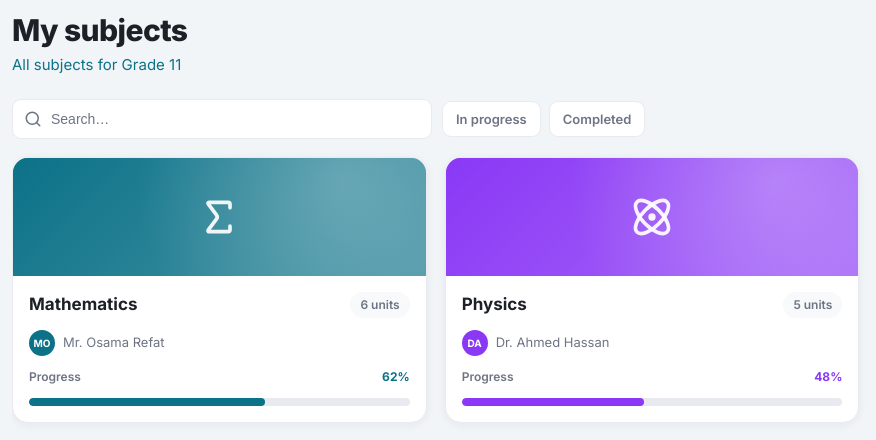
Test: StudentSubjectsPage › renders subjects page with search and filters, and filters client-side
Expected: the heading "Mathematics" is shown, [29,292,137,317]
Expected: the heading "Physics" is shown, [462,292,527,317]
# Test search filter
Type "Math" into the field with placeholder "Search…" at (222, 118), box [12,98,432,138]
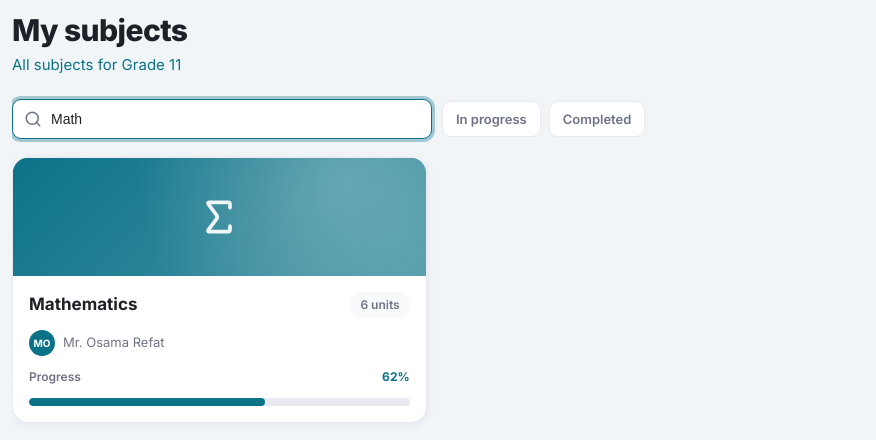
Expected: the heading "Mathematics" is shown, [29,292,137,317]
Now the link "Physics" is gone
